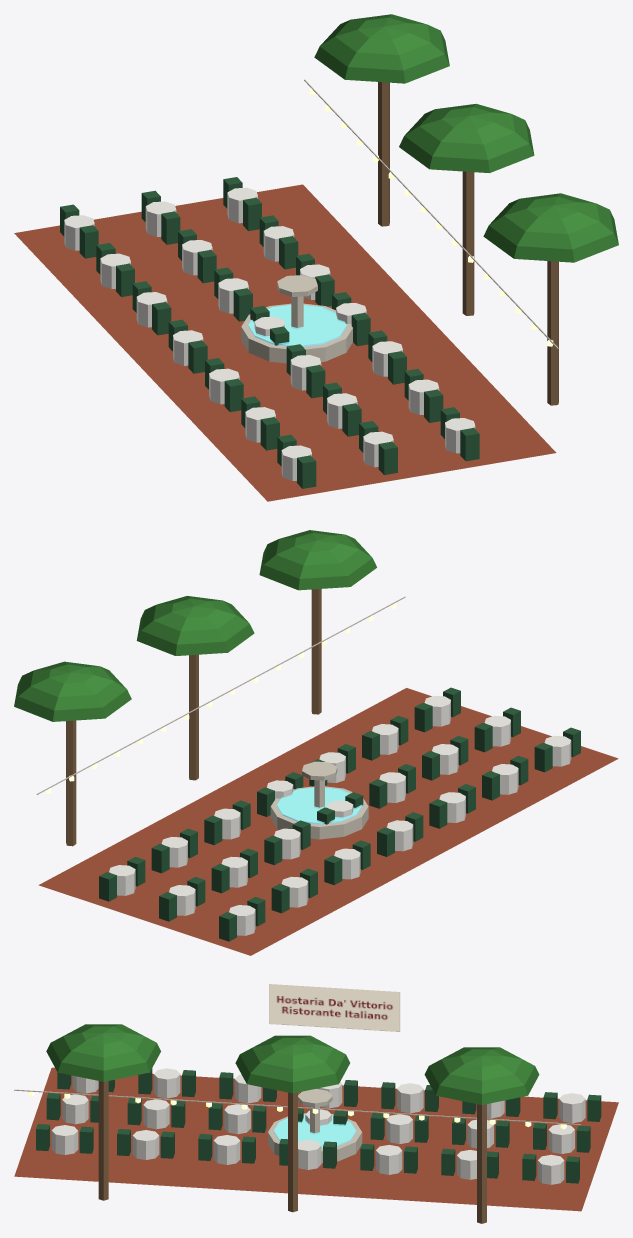
File: hostaria.glb
3 views of the same model, one above another, from view 1: azimuth 30°, elevation 25°; view 2: azimuth 150°, elevation 25°; view 3: azimuth 270°, elevation 25° (orthographic). The views are drawn at different scales.
Parts seen in each view (by area): view 1: hostaria_lod0; view 2: hostaria_lod0; view 3: hostaria_lod0.
Part boxes in pixels (left/top/right/bottom): hostaria_lod0: left=14, top=14, right=618, bottom=501; hostaria_lod0: left=14, top=530, right=618, bottom=955; hostaria_lod0: left=14, top=984, right=618, bottom=1223.
Size of what is drawn, in the model's own units: 14.27 by 6.2 by 20.54.
Materials: 11 (1 with a texture image).
